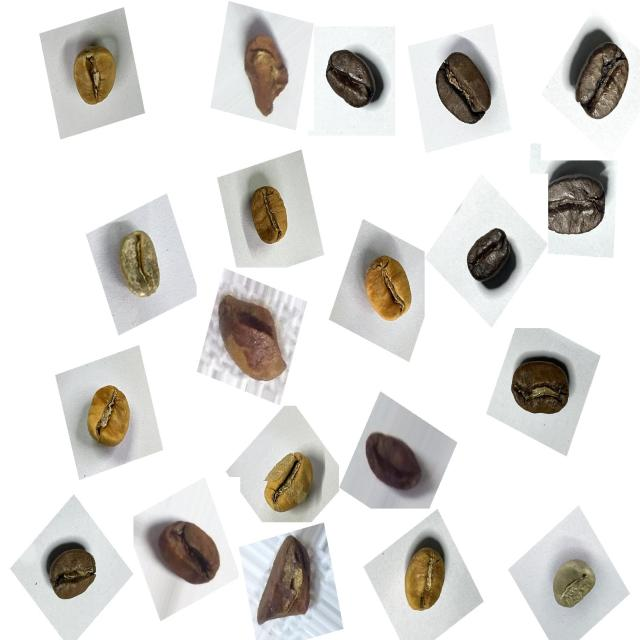bad: (211, 285, 296, 395), (249, 527, 327, 634), (147, 506, 231, 599), (230, 21, 300, 128), (358, 422, 432, 507)
dark: (502, 339, 584, 429), (539, 165, 615, 252), (318, 36, 388, 122), (455, 217, 525, 300)
green: (100, 218, 173, 312), (544, 546, 605, 622)
light: (388, 530, 460, 624), (349, 242, 422, 334), (74, 370, 146, 462), (252, 438, 325, 524), (58, 28, 126, 120), (236, 175, 305, 259)
medium: (558, 32, 640, 136), (422, 37, 506, 136), (39, 532, 106, 613)
